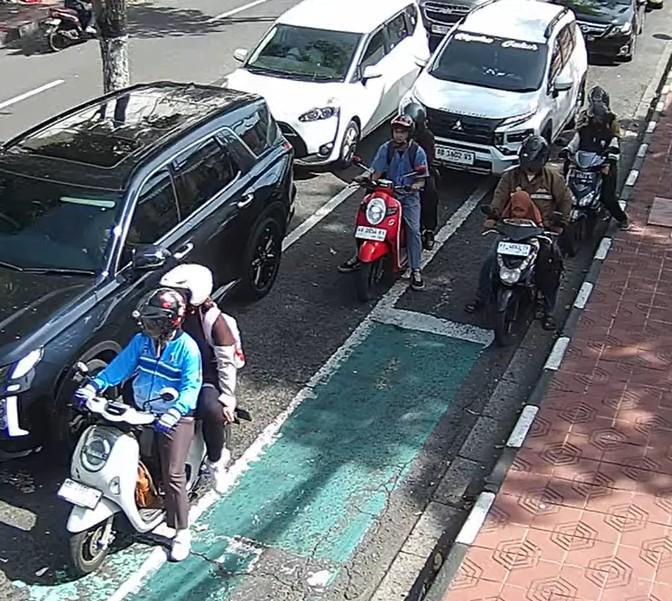Helmet: (133, 287, 186, 339), (160, 264, 213, 305), (519, 135, 549, 172), (587, 86, 609, 123), (390, 114, 414, 138), (403, 102, 426, 127), (588, 85, 609, 108)
Number Plate: (57, 479, 101, 508), (436, 145, 474, 165), (497, 241, 530, 256), (355, 225, 386, 240), (432, 24, 449, 33)
Rearview Mirror: (131, 245, 170, 270), (362, 65, 383, 82), (554, 74, 572, 91), (159, 387, 178, 401), (480, 205, 496, 218), (233, 48, 248, 61), (414, 56, 428, 68), (352, 155, 363, 165)
